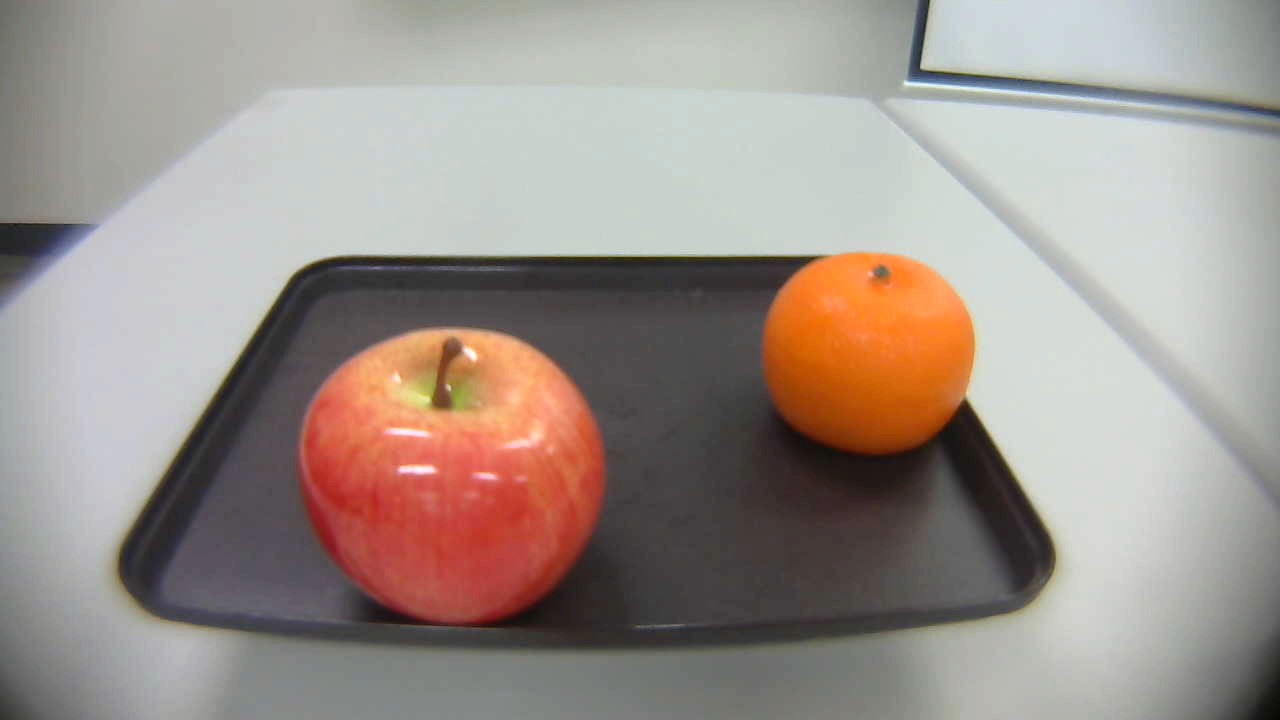orange: (762, 250, 983, 459)
red apple: (288, 318, 615, 634)
